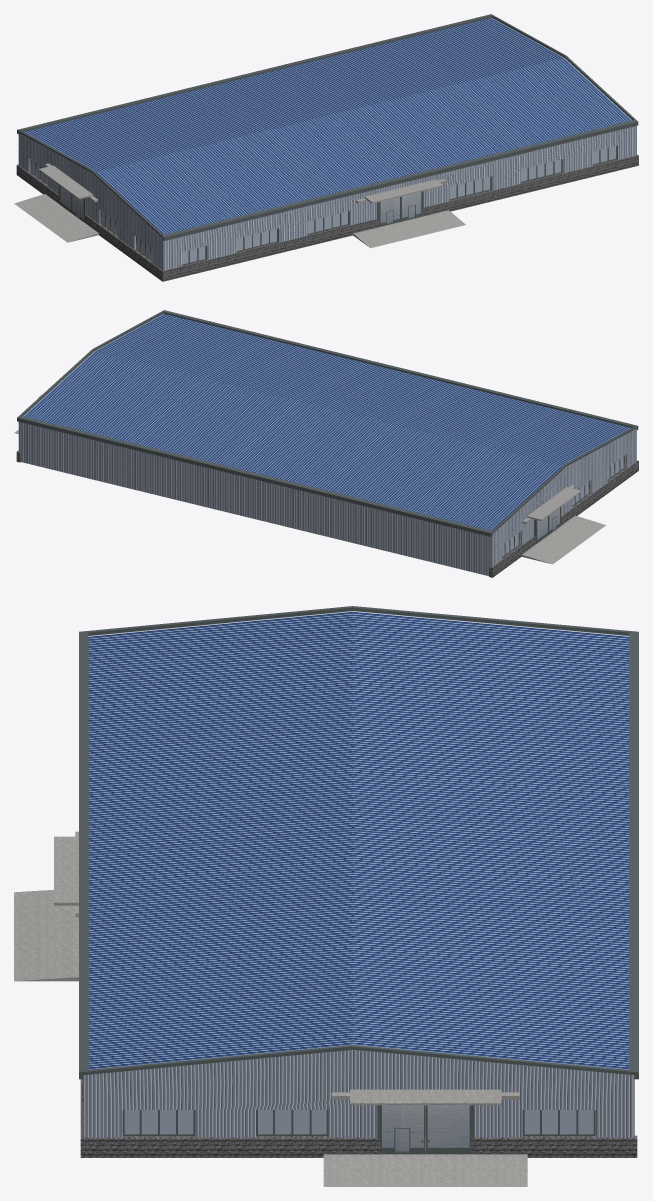
File: changfanglan2.glb
The picture shows the model from 3 angles, top to bottom: view 1: azimuth 30°, elevation 25°; view 2: azimuth 150°, elevation 25°; view 3: azimuth 270°, elevation 25°; orthographic projection. The views are drawn at different scales.
Visible parts, largest first — view 1: 对象033, 对象029, 对象035, 对象028, 对象031, 对象025, 对象032, 对象030, 对象020, 对象027, 对象034, 对象018 (+2 smaller); view 2: 对象033, 对象029, 对象035, 对象028, 对象031, 对象032, 对象030, 对象025, 对象027; view 3: 对象029, 对象033, 对象028, 对象034, 对象032, 对象020, 对象031, 对象018, 对象021, 对象030, 对象035.
Part boxes in pixels (left/top/right/bottom): 对象033: left=257, top=18, right=631, bottom=177; 对象029: left=24, top=75, right=396, bottom=234; 对象035: left=18, top=133, right=399, bottom=270; 对象028: left=400, top=17, right=636, bottom=207; 对象031: left=17, top=72, right=401, bottom=265; 对象025: left=16, top=164, right=379, bottom=281; 对象032: left=255, top=14, right=638, bottom=221; 对象030: left=14, top=163, right=417, bottom=248; 对象020: left=422, top=154, right=638, bottom=216; 对象027: left=31, top=160, right=347, bottom=264; 对象034: left=400, top=179, right=465, bottom=236; 对象018: left=450, top=146, right=615, bottom=198; 对象033: left=24, top=314, right=398, bottom=473; 对象029: left=258, top=371, right=631, bottom=530; 对象035: left=255, top=428, right=636, bottom=575; 对象028: left=18, top=313, right=255, bottom=518; 对象031: left=254, top=368, right=638, bottom=557; 对象032: left=17, top=310, right=400, bottom=478; 对象030: left=521, top=485, right=605, bottom=564; 对象025: left=489, top=460, right=638, bottom=577; 对象027: left=502, top=456, right=623, bottom=556; 对象029: left=88, top=611, right=629, bottom=854; 对象033: left=88, top=829, right=629, bottom=1069; 对象028: left=83, top=1049, right=634, bottom=1137; 对象034: left=14, top=869, right=527, bottom=1186; 对象032: left=79, top=851, right=638, bottom=1153; 对象020: left=80, top=1079, right=637, bottom=1157; 对象031: left=79, top=606, right=638, bottom=851; 对象018: left=124, top=1108, right=593, bottom=1135; 对象021: left=382, top=1105, right=469, bottom=1151; 对象030: left=14, top=831, right=78, bottom=936; 对象035: left=88, top=611, right=629, bottom=636.
Bounding box in the file's own units: 0.0976 × 0.01 × 0.0515.
Materials: 8 (6 with a texture image).
